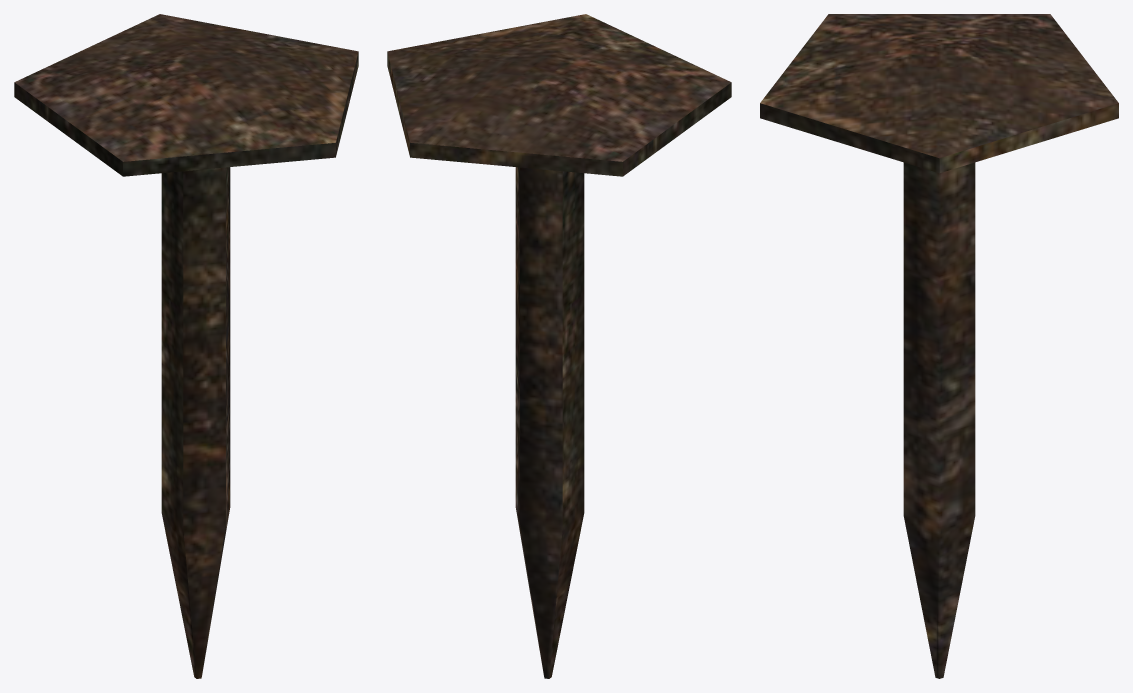
Rendered from Nail4.FBX.
3 renders of one model, left to right at view 1: azimuth 30°, elevation 25°; view 2: azimuth 150°, elevation 25°; view 3: azimuth 270°, elevation 25°, orthographic. The views are drawn at different scales.
Visible parts, largest first — view 1: Nail4; view 2: Nail4; view 3: Nail4.
Boxes of the visible parts, x1,y1,x2,y2 form: Nail4: (14, 14, 358, 678); Nail4: (387, 14, 731, 678); Nail4: (760, 14, 1118, 678).
Bounding box in the file's own units: 5.34 × 10.67 × 5.62.
